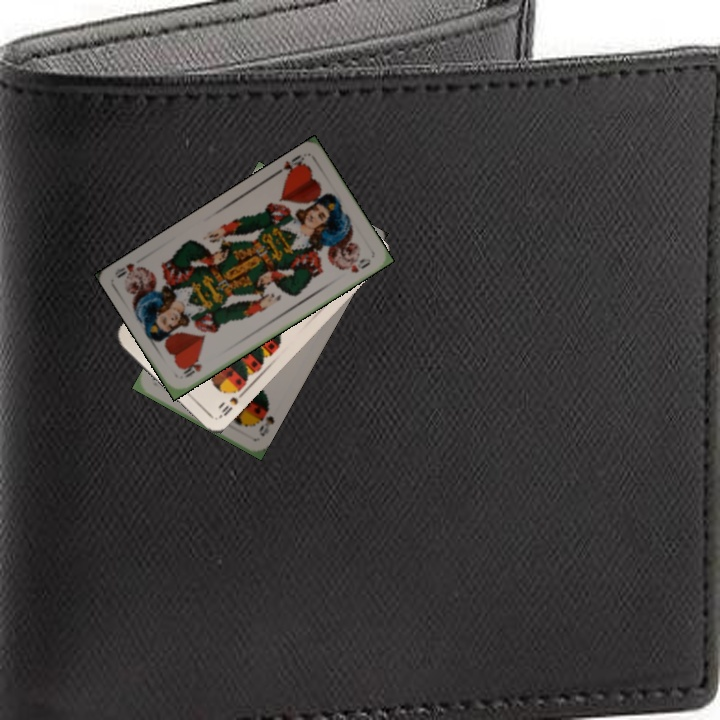HO: (271, 150, 309, 181), (179, 356, 204, 380)
S10: (215, 384, 247, 420)
SO: (254, 412, 277, 439)
